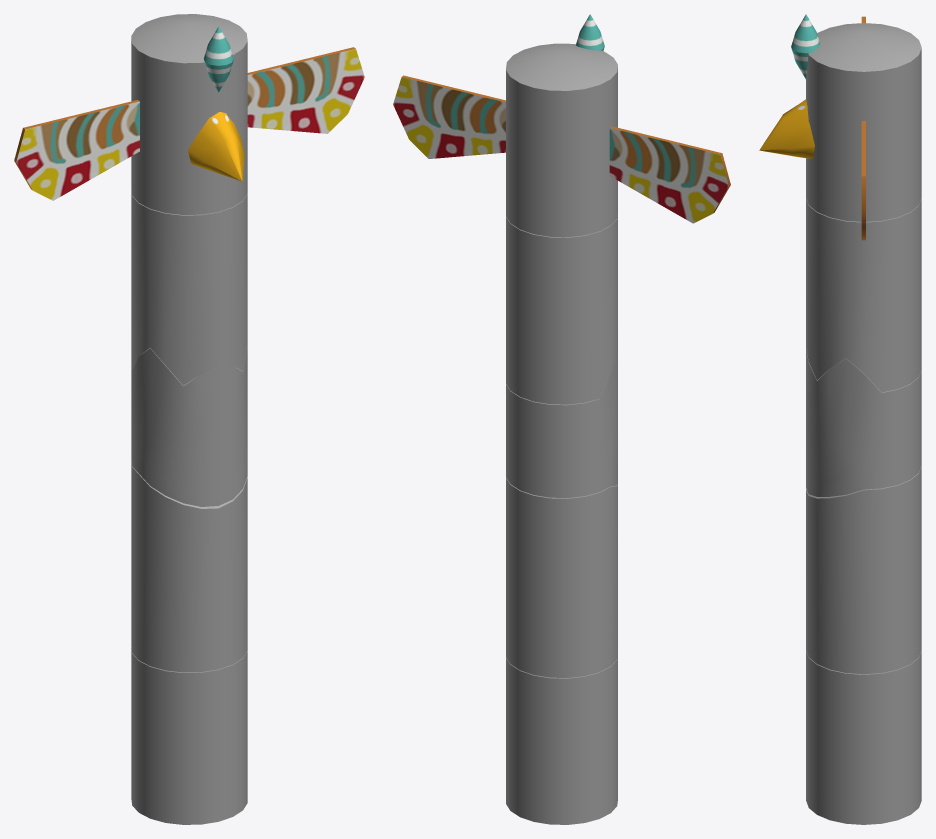
File: MtotemFull2.fbx
3 views of the same model, side by side, from view 1: azimuth 30°, elevation 25°; view 2: azimuth 150°, elevation 25°; view 3: azimuth 270°, elevation 25° (orthographic). The views are drawn at different scales.
Parts seen in each view (by area): view 1: miniTotem; view 2: miniTotem; view 3: miniTotem.
Boxes of the visible parts, left/top/right/bottom form: miniTotem: left=14, top=14, right=364, bottom=824; miniTotem: left=393, top=14, right=730, bottom=824; miniTotem: left=759, top=14, right=921, bottom=824.
Bounding box in the file's own units: 156 × 340 × 63.72.
